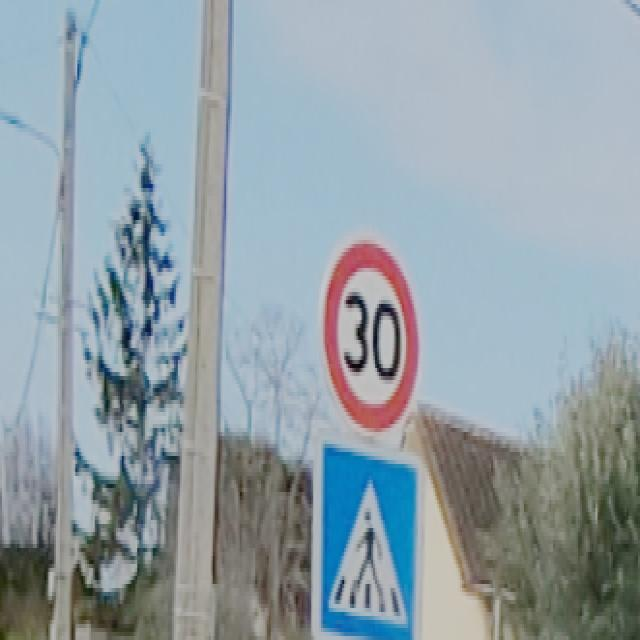speed_30: (322, 237, 422, 439)
